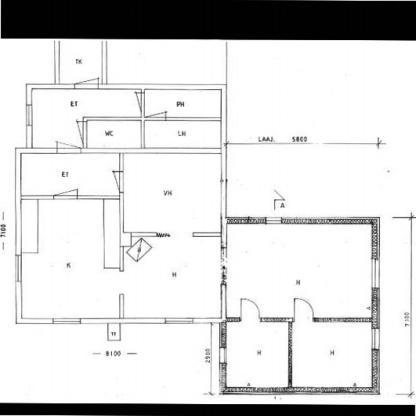door: (290, 296, 318, 324), (233, 295, 263, 321), (69, 75, 101, 92), (48, 187, 82, 202), (53, 139, 81, 156), (110, 170, 126, 196), (142, 109, 170, 123), (131, 86, 146, 112), (75, 117, 87, 143)
window: (367, 255, 385, 291), (46, 312, 86, 328), (157, 314, 199, 328), (12, 251, 26, 285), (367, 324, 383, 352), (23, 103, 37, 129), (258, 215, 286, 227), (216, 347, 228, 365)
